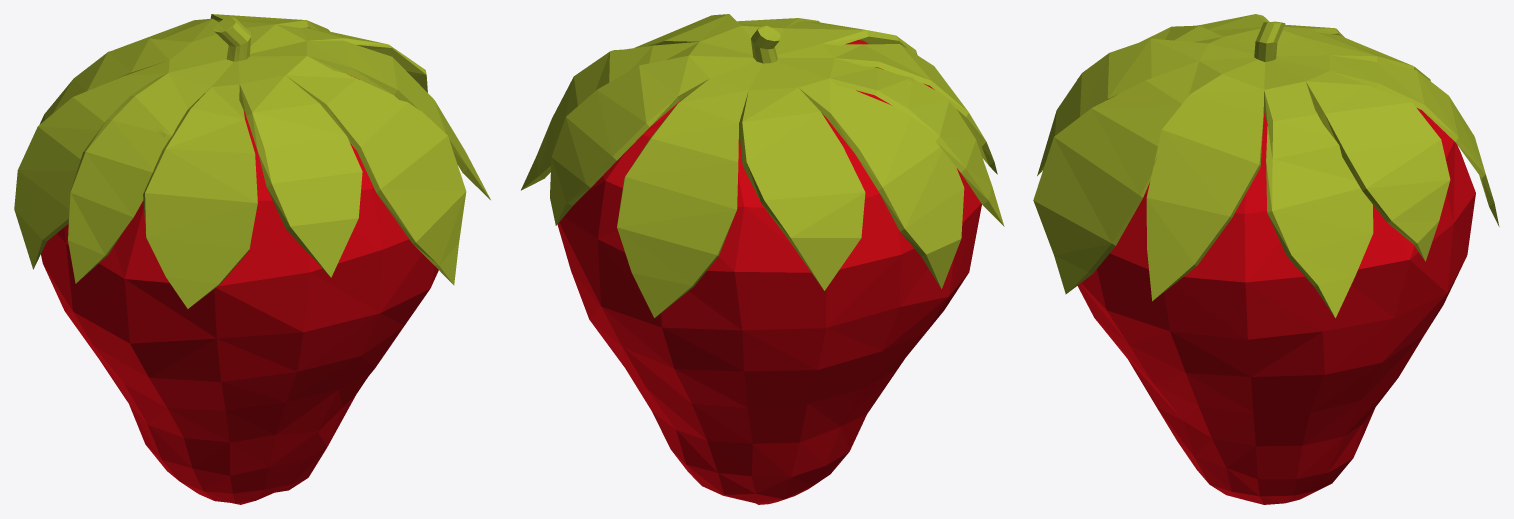
The model's file is Carry_Strawberry.fbx.
3 views of the same model, side by side, from view 1: azimuth 30°, elevation 25°; view 2: azimuth 150°, elevation 25°; view 3: azimuth 270°, elevation 25° (orthographic).
Parts seen in each view (by area): view 1: Strawberry Leafes; view 2: Strawberry Leafes; view 3: Strawberry Leafes.
Boxes of the visible parts, x1,y1,x2,y2 form: Strawberry Leafes: (14,14,490,504); Strawberry Leafes: (521,14,1004,504); Strawberry Leafes: (1033,14,1499,504).
Size of the model in its own units: 237 by 265 by 233.
